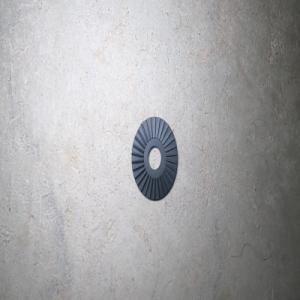Washer: (131, 116, 177, 200)
